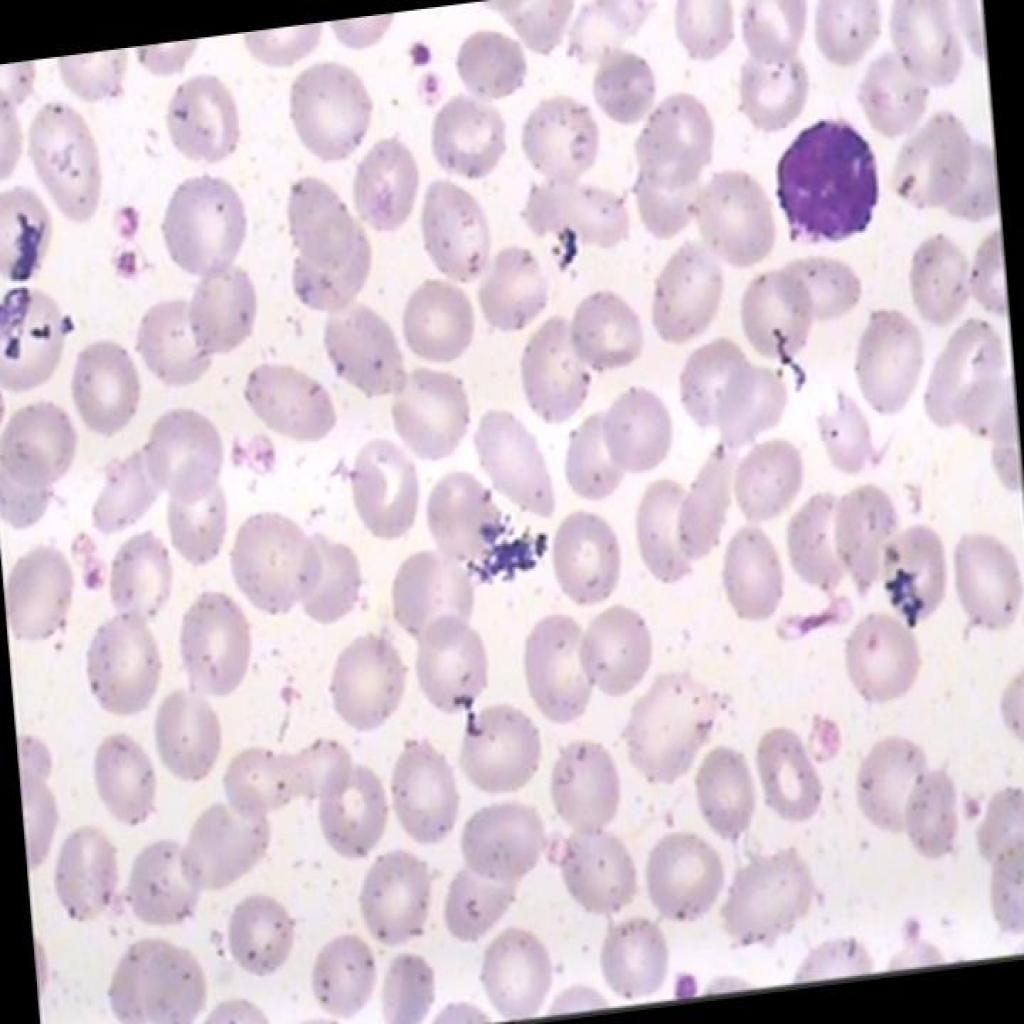Basofil: (761, 94, 897, 263)
Platelet: (104, 190, 152, 247), (403, 30, 438, 84), (664, 956, 703, 1004), (111, 238, 149, 279)
